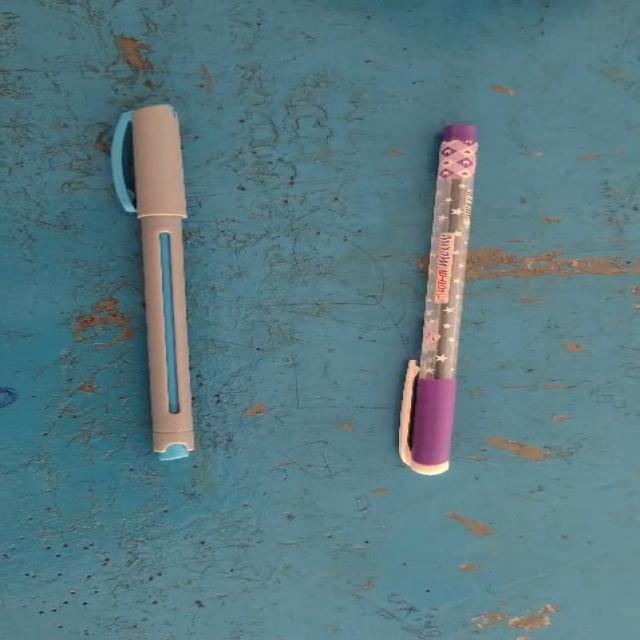pen: (42, 54, 266, 486), (376, 80, 532, 492)
